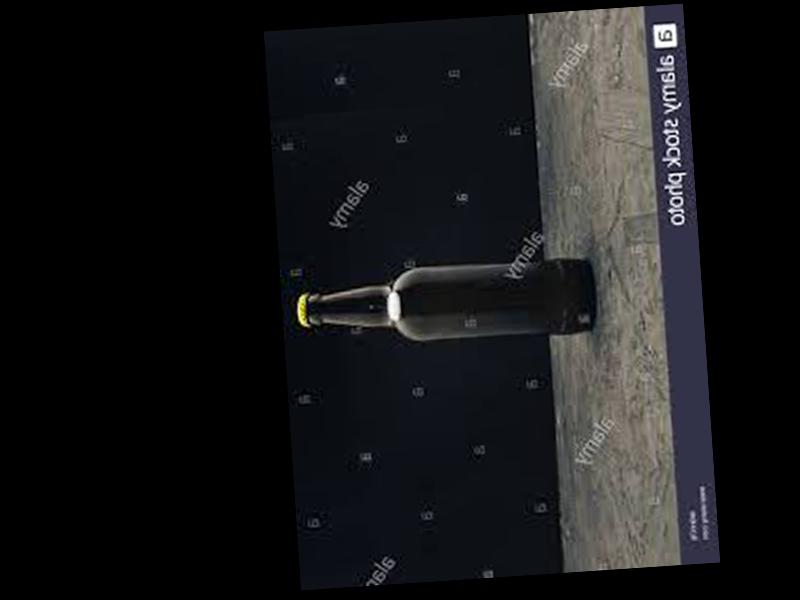Beer: (296, 262, 595, 350)
